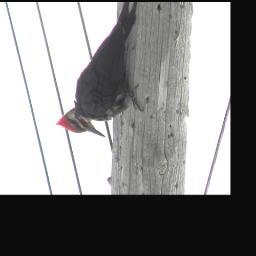Woodpecker: (53, 3, 145, 140)
